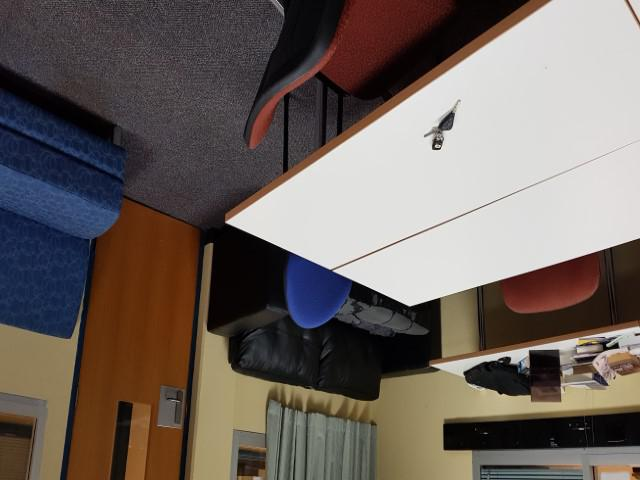key: (435, 97, 462, 132)
